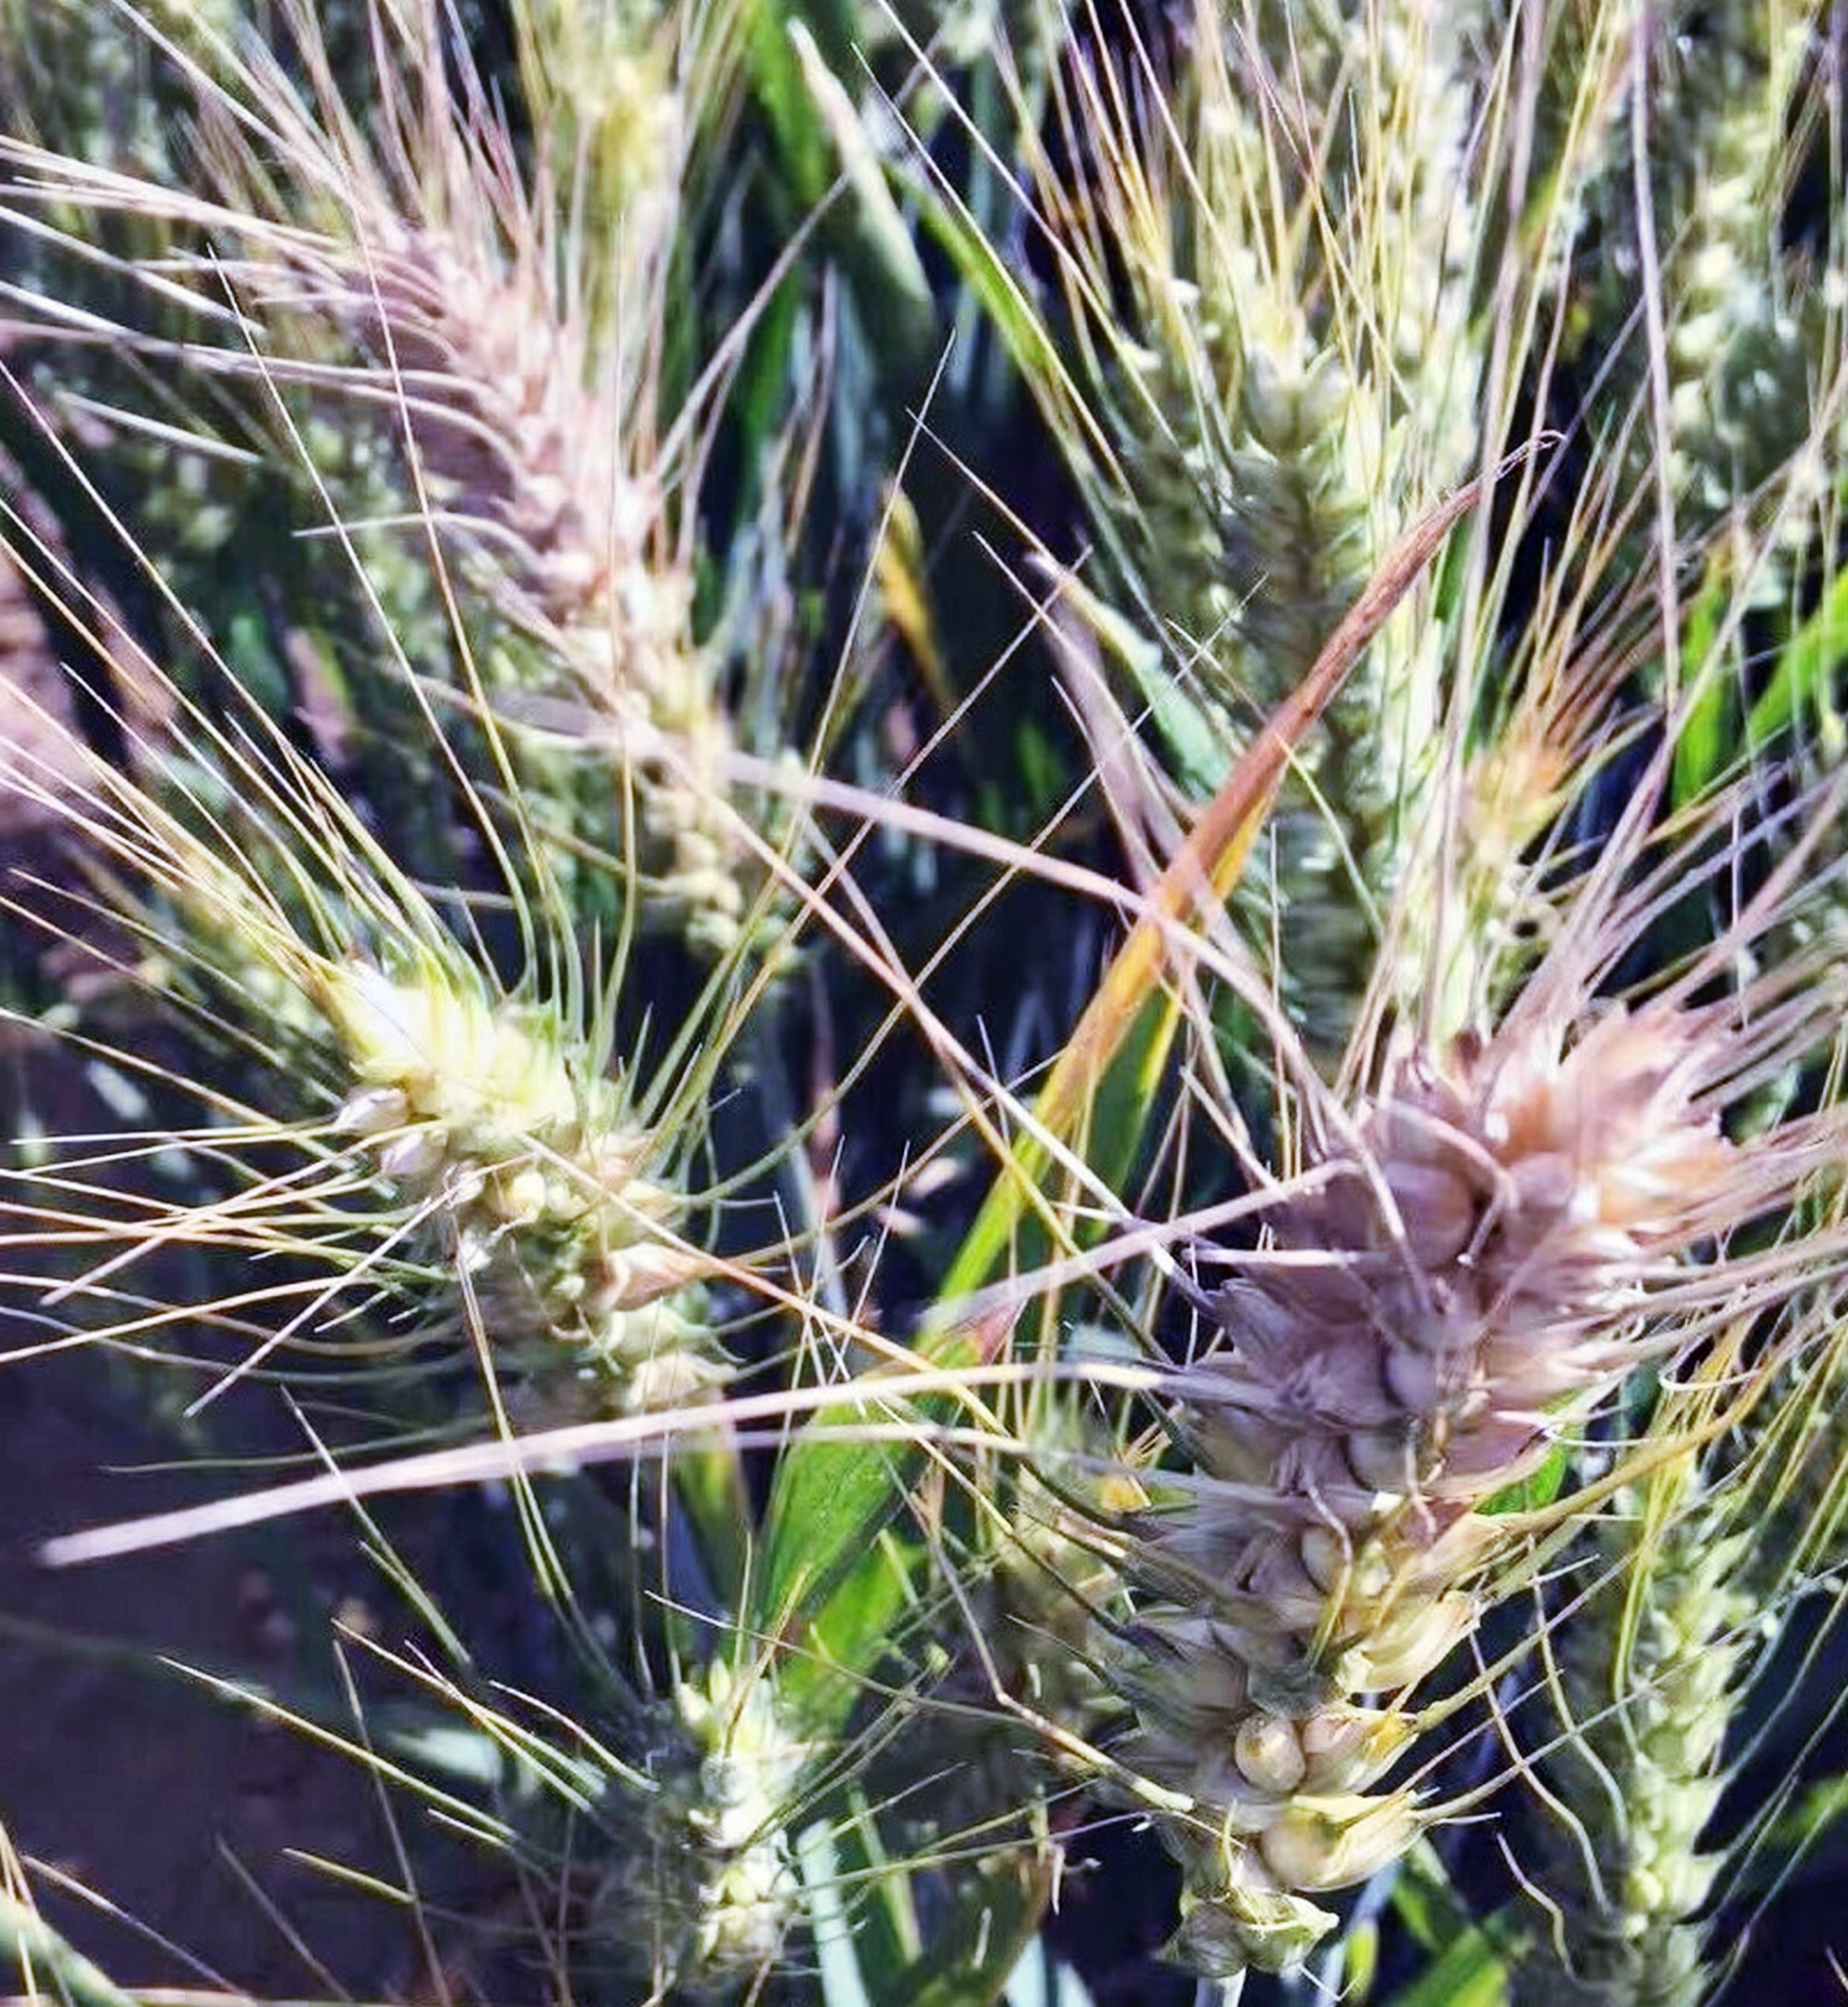Wheat scab: (1136, 1037, 1712, 1946)
